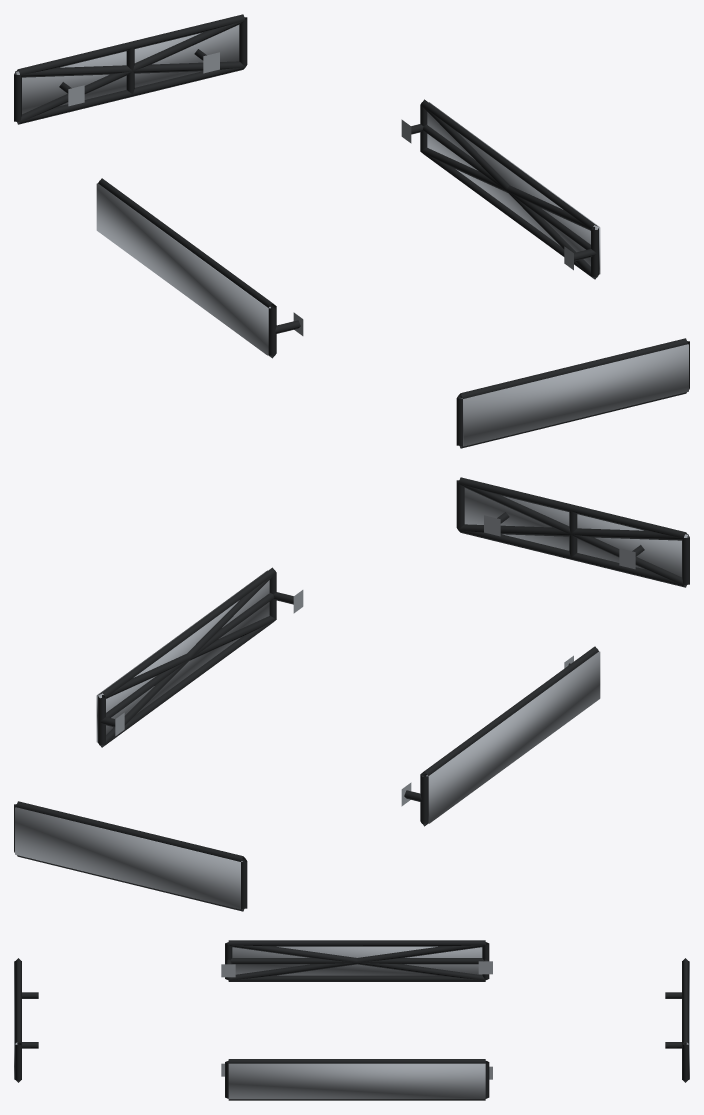
File: morel_afluente_protecao.glb
3 renders of one model, top to bottom at view 1: azimuth 30°, elevation 25°; view 2: azimuth 150°, elevation 25°; view 3: azimuth 270°, elevation 25°, orthographic. The views are drawn at different scales.
Visible parts, largest first — view 1: Protection_front_Level3_Details, Protection_left_Level3_Details, Protection_rear_Level1_Details, Protection_rear_Level3_Details, Protection_right_Level1_Details, Protection_right_Level2_Details, Protection_rear_Level2_Details, Protection_right_Level3_Details, Protection_front_Level1_Details, Protection_left_Level1_Details; view 2: Protection_rear_Level3_Details, Protection_left_Level3_Details, Protection_front_Level1_Details, Protection_front_Level3_Details, Protection_right_Level1_Details, Protection_right_Level2_Details, Protection_front_Level2_Details, Protection_right_Level3_Details, Protection_rear_Level1_Details, Protection_left_Level1_Details; view 3: Protection_right_Level3_Details, Protection_left_Level2_Details, Protection_left_Level1_Details, Protection_left_Level3_Details, Protection_right_Level1_Details, Protection_rear_Level1_Details, Protection_front_Level1_Details.
Part boxes in pixels (box(x1,y1,x2,y2)): Protection_front_Level3_Details: box(461, 344, 688, 446); Protection_left_Level3_Details: box(96, 183, 270, 355); Protection_rear_Level1_Details: box(14, 14, 247, 124); Protection_rear_Level3_Details: box(15, 25, 239, 114); Protection_right_Level1_Details: box(401, 99, 598, 279); Protection_right_Level2_Details: box(420, 105, 597, 279); Protection_rear_Level2_Details: box(16, 20, 245, 123); Protection_right_Level3_Details: box(427, 102, 600, 274); Protection_front_Level1_Details: box(456, 338, 689, 448); Protection_left_Level1_Details: box(98, 178, 303, 358); Protection_rear_Level3_Details: box(15, 807, 242, 909); Protection_left_Level3_Details: box(426, 651, 600, 823); Protection_front_Level1_Details: box(456, 477, 689, 587); Protection_front_Level3_Details: box(464, 488, 688, 577); Protection_right_Level1_Details: box(98, 567, 303, 747); Protection_right_Level2_Details: box(99, 574, 276, 747); Protection_front_Level2_Details: box(458, 483, 687, 586); Protection_right_Level3_Details: box(96, 570, 269, 742); Protection_rear_Level1_Details: box(14, 801, 247, 911); Protection_left_Level1_Details: box(401, 646, 598, 826); Protection_right_Level3_Details: box(228, 1063, 485, 1099); Protection_left_Level2_Details: box(228, 942, 485, 980); Protection_left_Level1_Details: box(221, 940, 492, 981); Protection_left_Level3_Details: box(232, 946, 482, 975); Protection_right_Level1_Details: box(221, 1059, 492, 1100); Protection_rear_Level1_Details: box(665, 958, 688, 1082); Protection_front_Level1_Details: box(15, 958, 38, 1082).
Bounding box in the file's own units: 2.22 × 0.354 × 5.18.
Materials: 1 (1 with a texture image).
